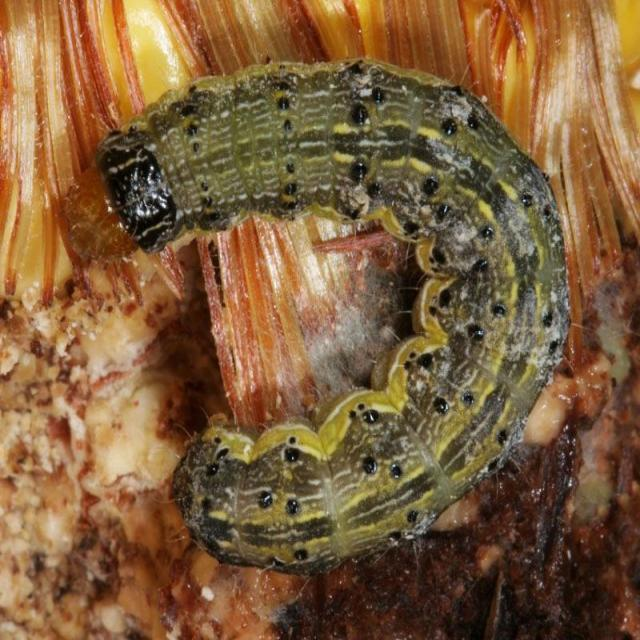Corn-earworm: (111, 43, 565, 570)
